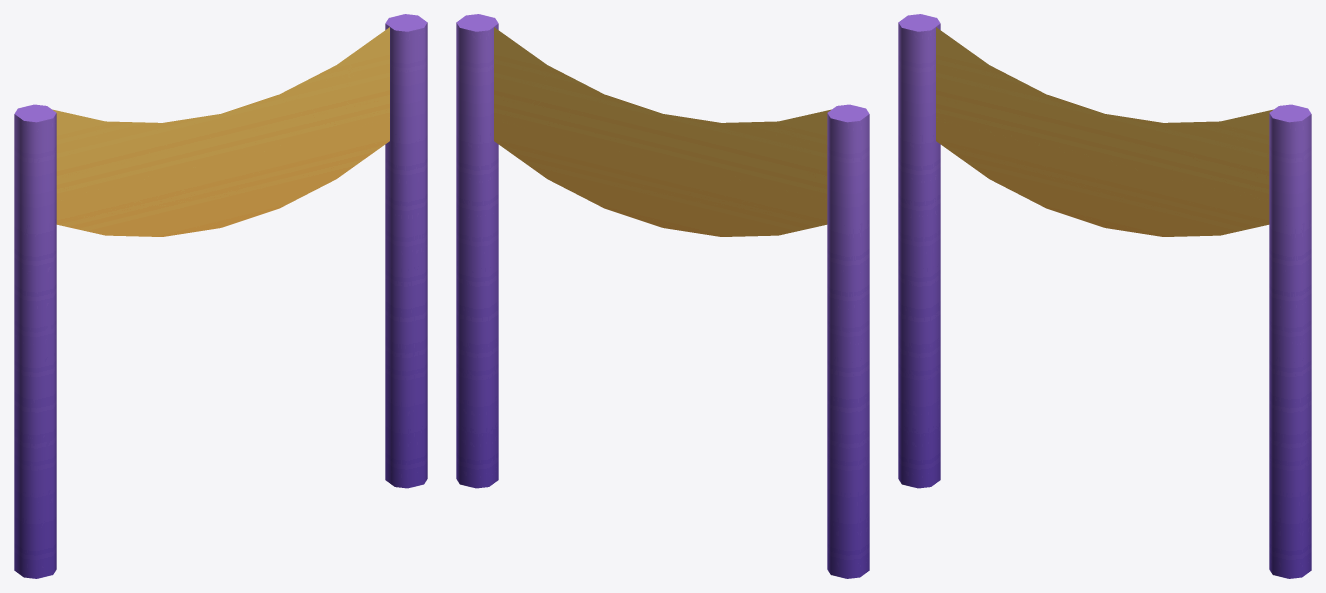
File: banner-hanging-high-col.glb
The picture shows the model from 3 angles, left to right: view 1: azimuth 30°, elevation 25°; view 2: azimuth 150°, elevation 25°; view 3: azimuth 330°, elevation 25°; orthographic projection.
Visible parts, largest first — view 1: banner-hanging-high-col; view 2: banner-hanging-high-col; view 3: banner-hanging-high-col.
Boxes of the visible parts, <box> form: banner-hanging-high-col: <box>14,14,427,578</box>; banner-hanging-high-col: <box>456,14,869,578</box>; banner-hanging-high-col: <box>898,14,1311,578</box>.
Size of the model in its own units: 0.925 by 1 by 0.075.
1 material, 1 textured.
